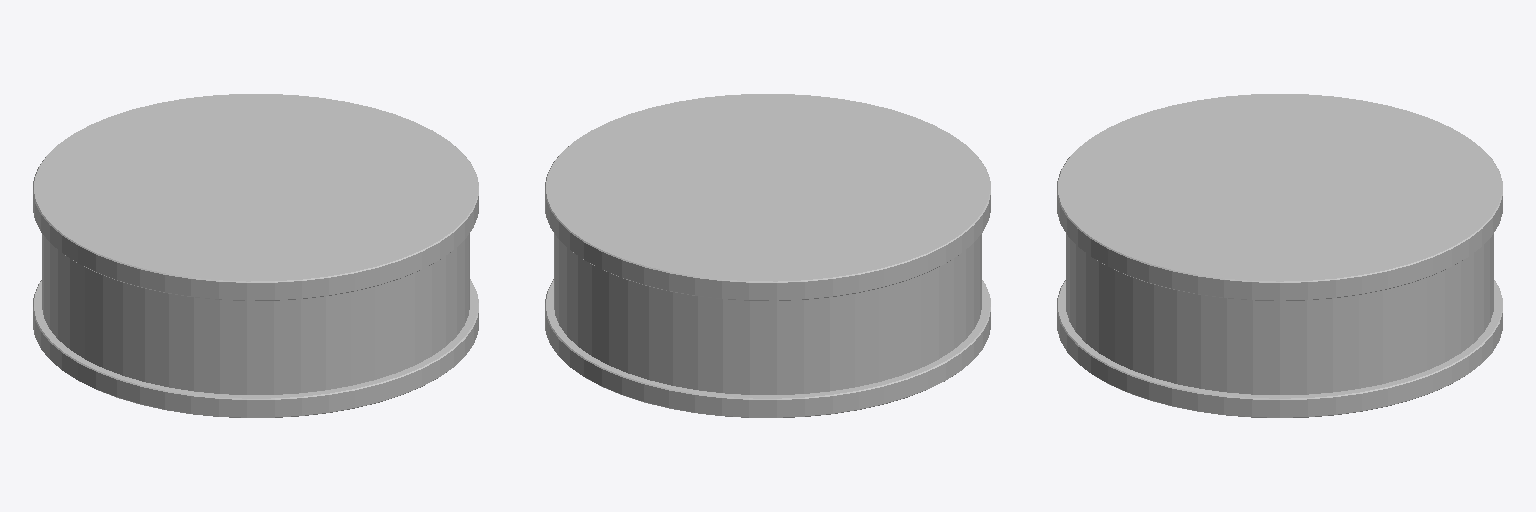
File: PickBTN_LP.obj
The picture shows the model from 3 angles: view 1: azimuth 30°, elevation 25°; view 2: azimuth 150°, elevation 25°; view 3: azimuth 270°, elevation 25°; orthographic projection.
Parts seen in each view (by area): view 1: PickButton; view 2: PickButton; view 3: PickButton.
Part boxes in pixels (x1,y1,x2,y2): PickButton: (33,94,478,417); PickButton: (545,94,990,417); PickButton: (1057,94,1502,417).
Bounding box in the file's own units: 3.07 × 1.04 × 3.06.